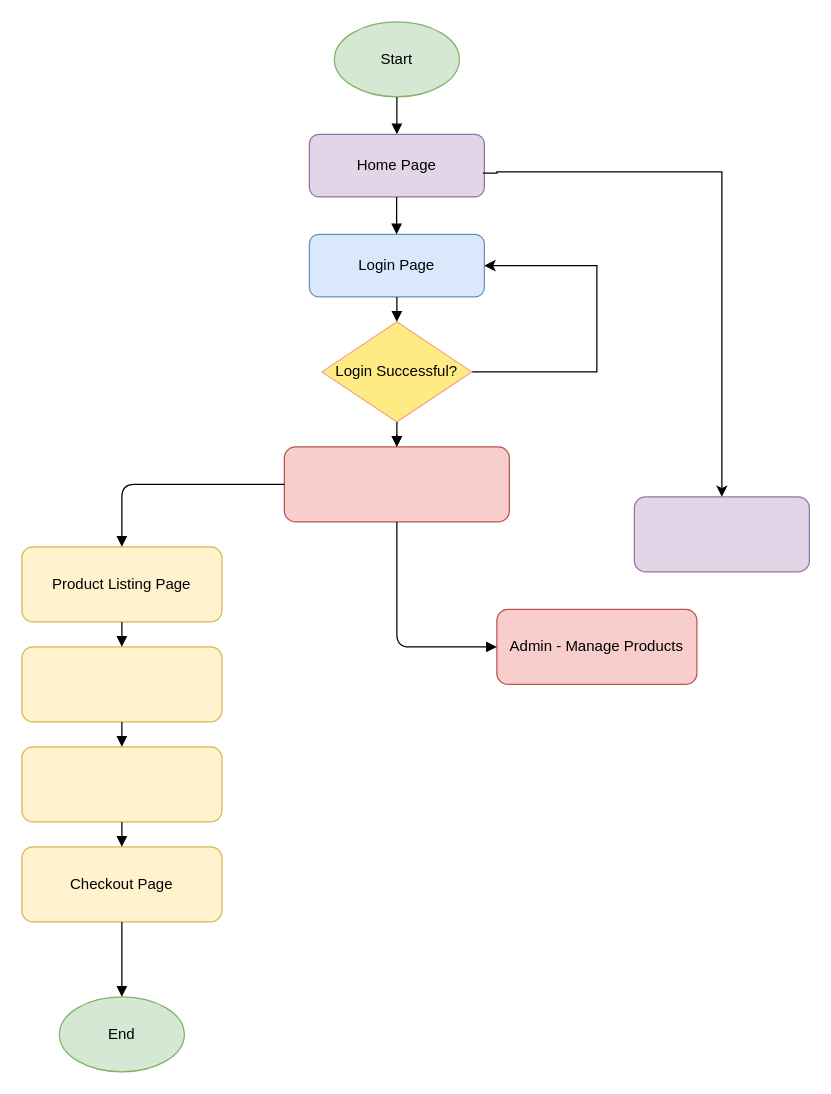
The diagram is 831 pixels wide and 1094 high, and some of its shapes have lost their labels. The centre of each missing label's shape, as x and y in pixels:
Cart Page: point 121,784
Contact Page: point 721,534
Dashboard (Admin/Dentist): point 396,484
Product Details Page: point 121,684
